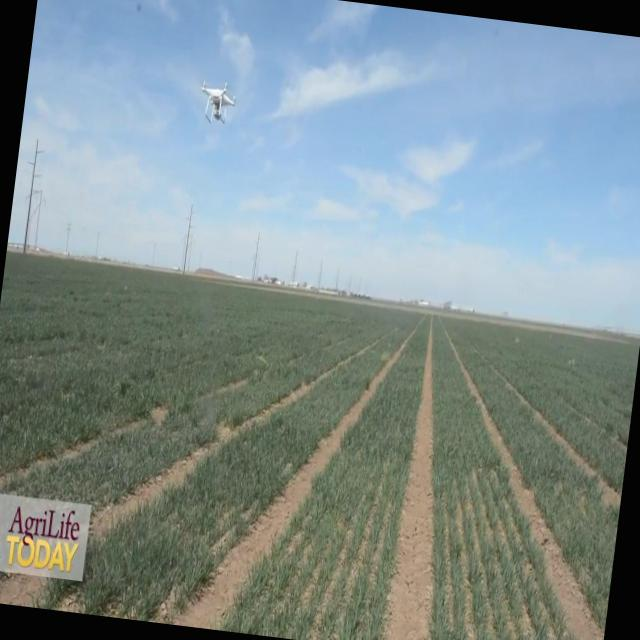drone: (194, 77, 240, 131)
